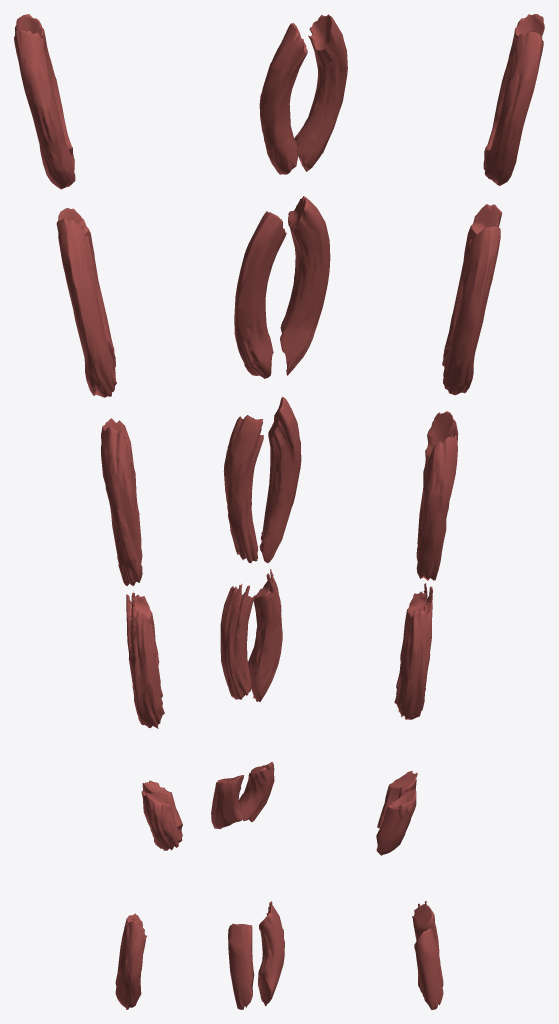
The model's file is FMA71307.glb.
The picture shows the model from 3 angles, left to right: view 1: azimuth 90°, elevation 25°; view 2: azimuth 210°, elevation 25°; view 3: azimuth 270°, elevation 25°; orthographic projection. The views are drawn at different scales.
Visible parts, largest first — view 1: FMA71307; view 2: FMA71307; view 3: FMA71307.
Boxes of the visible parts, bbox=[...] form: FMA71307: bbox=[14, 14, 182, 1009]; FMA71307: bbox=[211, 14, 347, 1009]; FMA71307: bbox=[376, 14, 544, 1009].
Size of the model in its own units: 0.0145 by 0.1553 by 0.0241.
